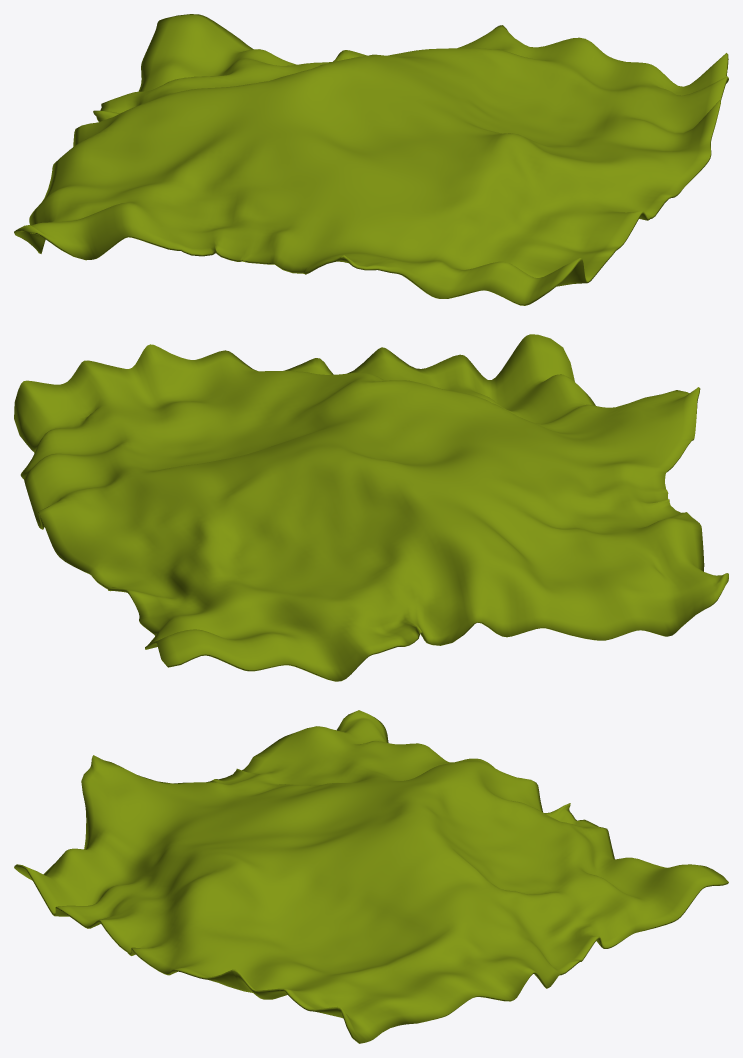
File: lettuce.glb
The picture shows the model from 3 angles, top to bottom: view 1: azimuth 30°, elevation 25°; view 2: azimuth 150°, elevation 25°; view 3: azimuth 270°, elevation 25°; orthographic projection. The views are drawn at different scales.
Parts seen in each view (by area): view 1: lettuce; view 2: lettuce; view 3: lettuce.
Boxes of the visible parts, x1=… form: lettuce: x1=14, y1=14, x2=728, y2=305; lettuce: x1=14, y1=334, x2=728, y2=681; lettuce: x1=14, y1=710, x2=728, y2=1043.
Size of the model in its own units: 0.828 by 0.1291 by 0.8016.
